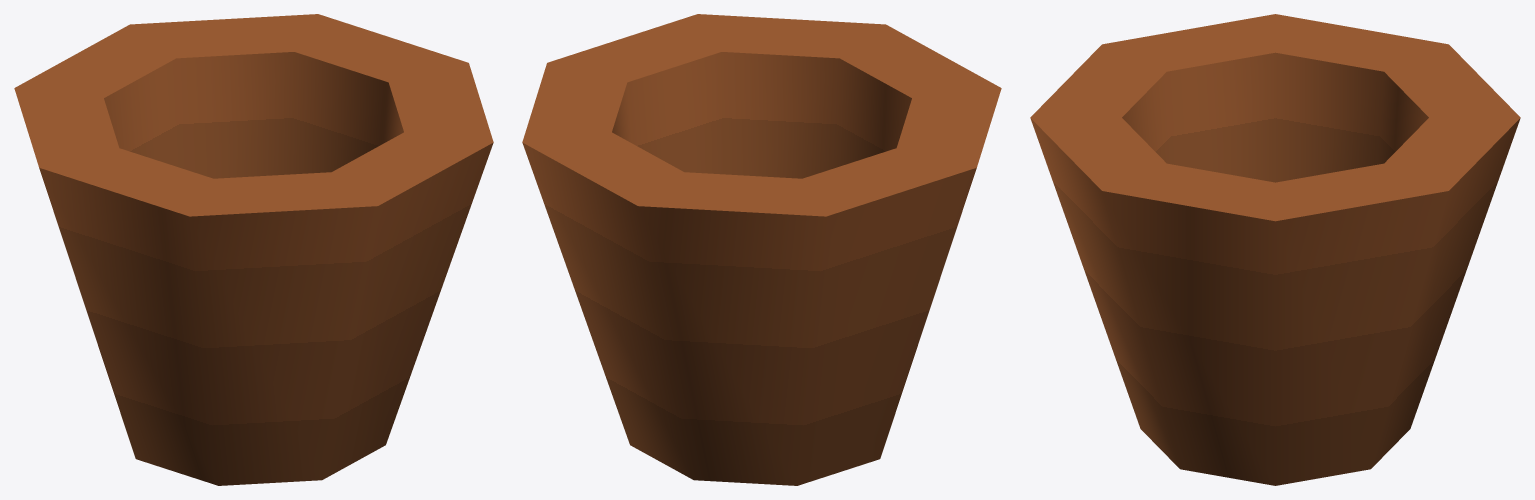
File: bucket.fbx
3 renders of one model, left to right at view 1: azimuth 30°, elevation 25°; view 2: azimuth 150°, elevation 25°; view 3: azimuth 270°, elevation 25°, orthographic.
Visible parts, largest first — view 1: Cylinder; view 2: Cylinder; view 3: Cylinder.
Part boxes in pixels (box(x1,y1,x2,y2)): Cylinder: box(14, 14, 493, 485); Cylinder: box(522, 14, 1001, 485); Cylinder: box(1030, 14, 1520, 485).
Bounding box in the file's own units: 82.12 × 57.5 × 82.12.
